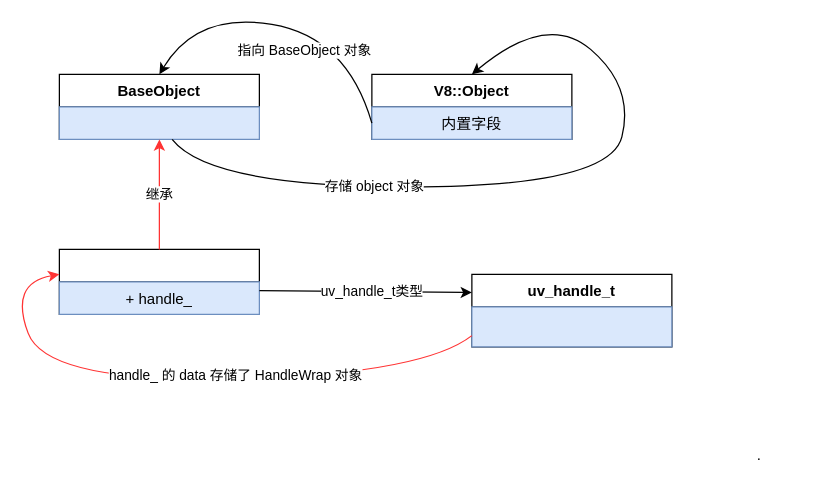
Some shapes in this 819 by 496 pixel diagram are drawn without their labels. Each missing label, with the box of its shape:
+ data: (471, 306, 672, 347)
- persistent_handle_: (58, 106, 259, 139)
HandleWrap: (58, 248, 259, 314)
